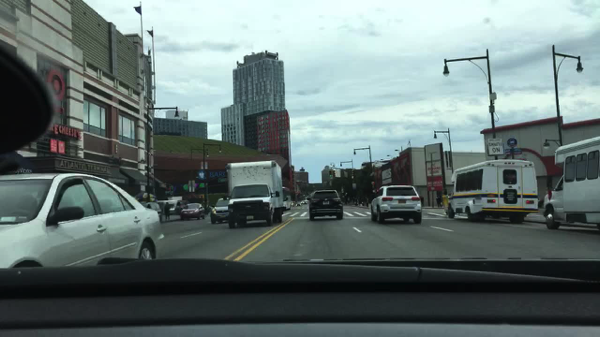bus: (443, 161, 543, 222), (281, 186, 292, 211)
car: (1, 173, 164, 274), (370, 185, 422, 223), (308, 190, 345, 222), (209, 196, 233, 223), (180, 203, 206, 220), (141, 202, 163, 221), (167, 199, 188, 216), (302, 199, 308, 205), (294, 204, 301, 208)
person: (164, 200, 172, 221), (435, 194, 441, 209), (420, 195, 425, 207)
traffic light: (329, 169, 333, 178), (332, 170, 336, 177)
traffic sign: (486, 138, 505, 155), (507, 139, 517, 147), (334, 169, 341, 179), (512, 148, 521, 155), (201, 162, 208, 170), (188, 181, 196, 187), (505, 149, 510, 156), (189, 187, 195, 192)
truck: (543, 136, 598, 232), (227, 160, 283, 228)
